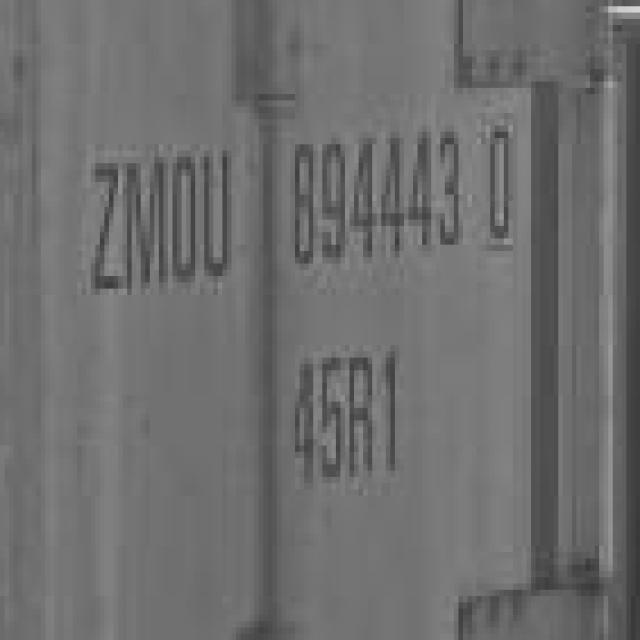dv: (483, 120, 533, 260)
owner: (76, 142, 242, 302)
serial: (286, 119, 473, 278)
size: (274, 344, 418, 489)
